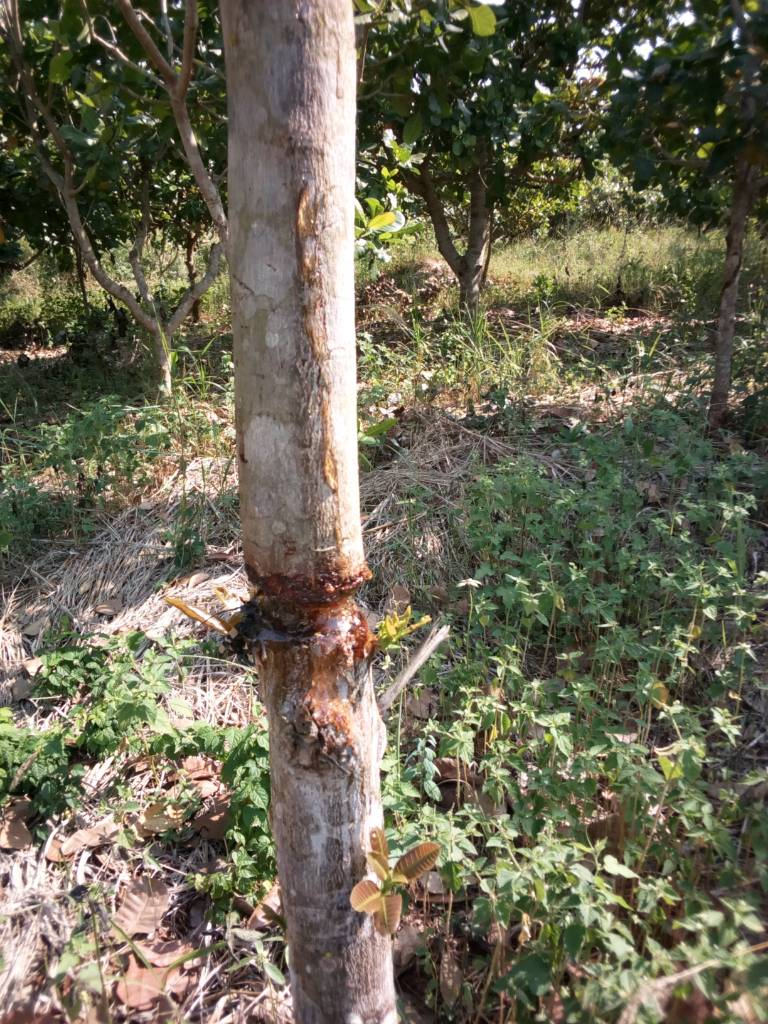Analepse trifasciata: (219, 553, 408, 685)
